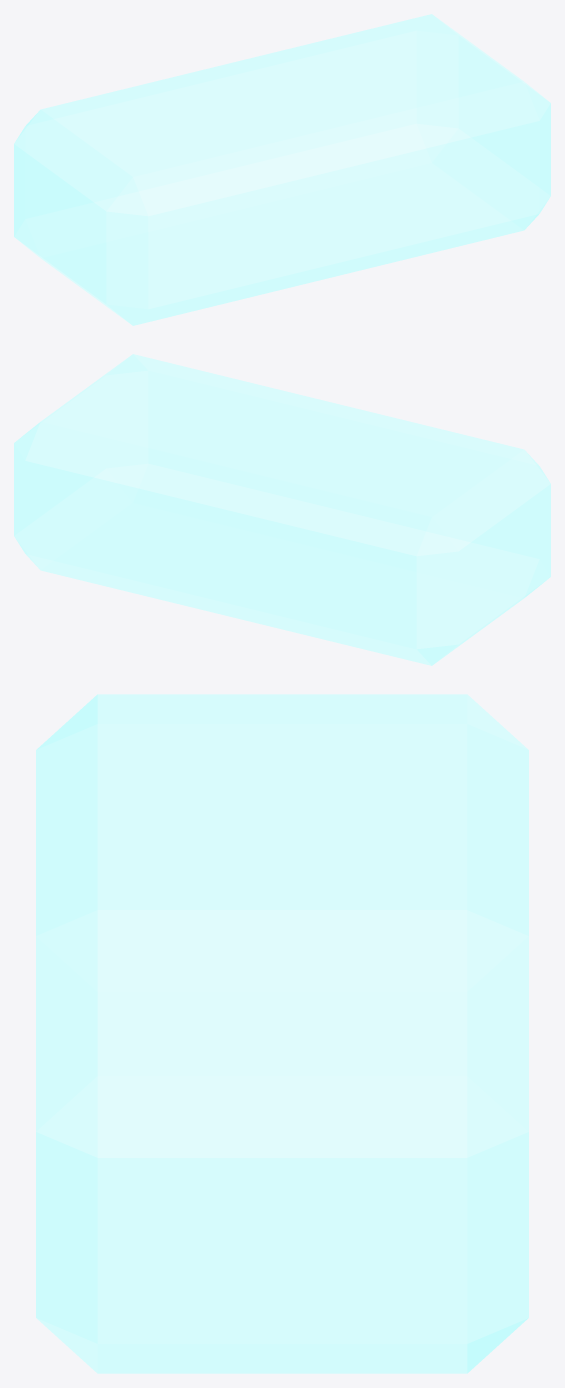
The model's file is GH_Product_MetalBar.fbx.
The picture shows the model from 3 angles, top to bottom: view 1: azimuth 30°, elevation 25°; view 2: azimuth 150°, elevation 25°; view 3: azimuth 270°, elevation 25°; orthographic projection. The views are drawn at different scales.
Parts seen in each view (by area): view 1: SM_Product_MetalBar; view 2: SM_Product_MetalBar; view 3: SM_Product_MetalBar.
Part boxes in pixels (box(x1,y1,x2,y2)): SM_Product_MetalBar: box(14, 14, 550, 325); SM_Product_MetalBar: box(14, 354, 550, 665); SM_Product_MetalBar: box(36, 694, 528, 1373).
Size of the model in its own units: 0.5 by 0.16 by 0.24.
